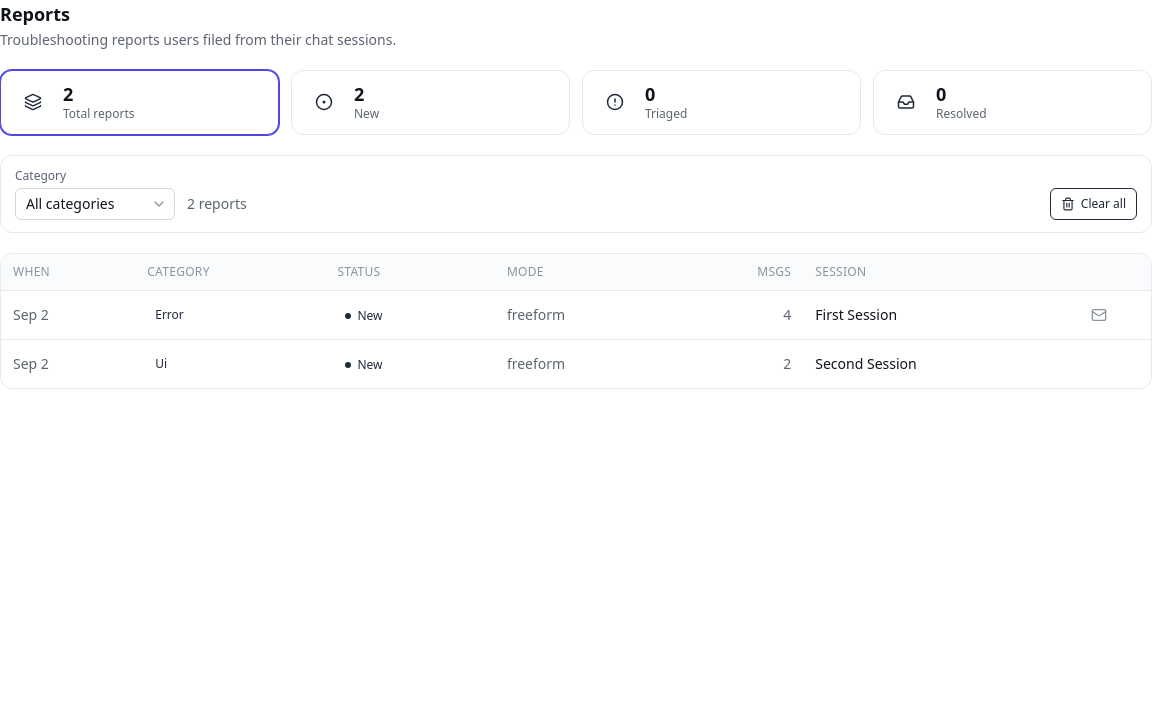
Test case: clears all reports after confirmation
The width and height of the screenshot is (1152, 720).
Expected: the text "First Session" is shown, left=803, top=290, right=1079, bottom=339
Click the button "Clear all": {"x": 1093, "y": 204} left=1050, top=188, right=1137, bottom=220
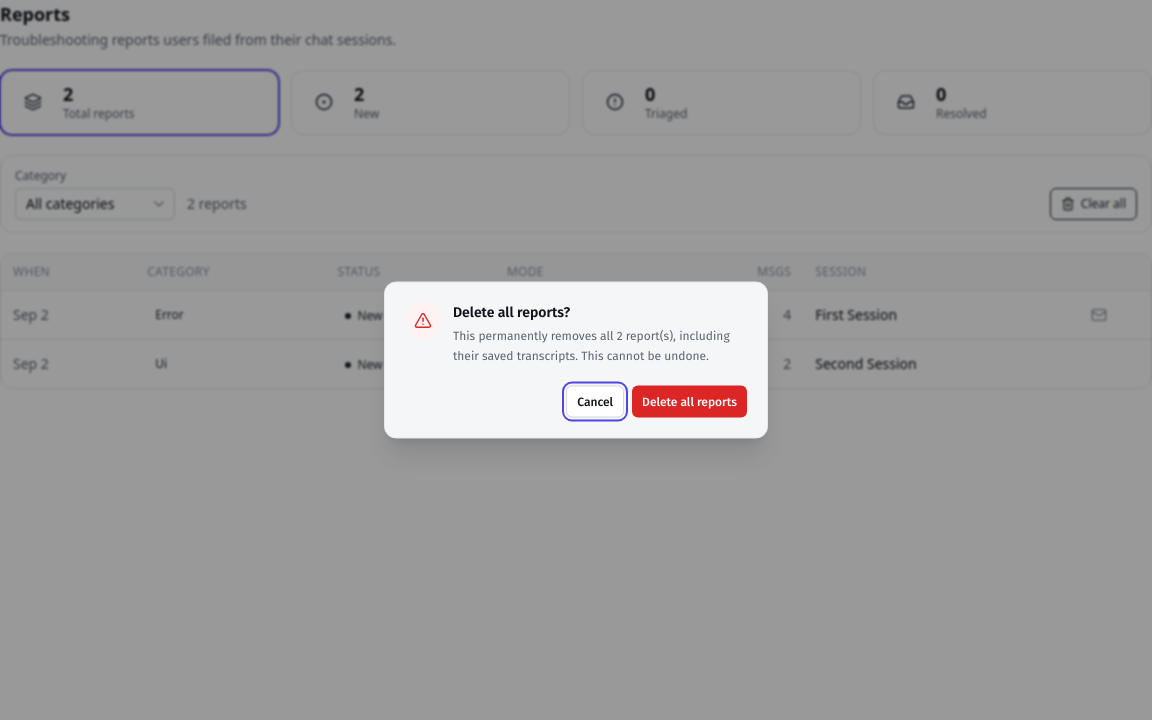
Click the button "Delete all reports": {"x": 690, "y": 402} left=632, top=386, right=747, bottom=418
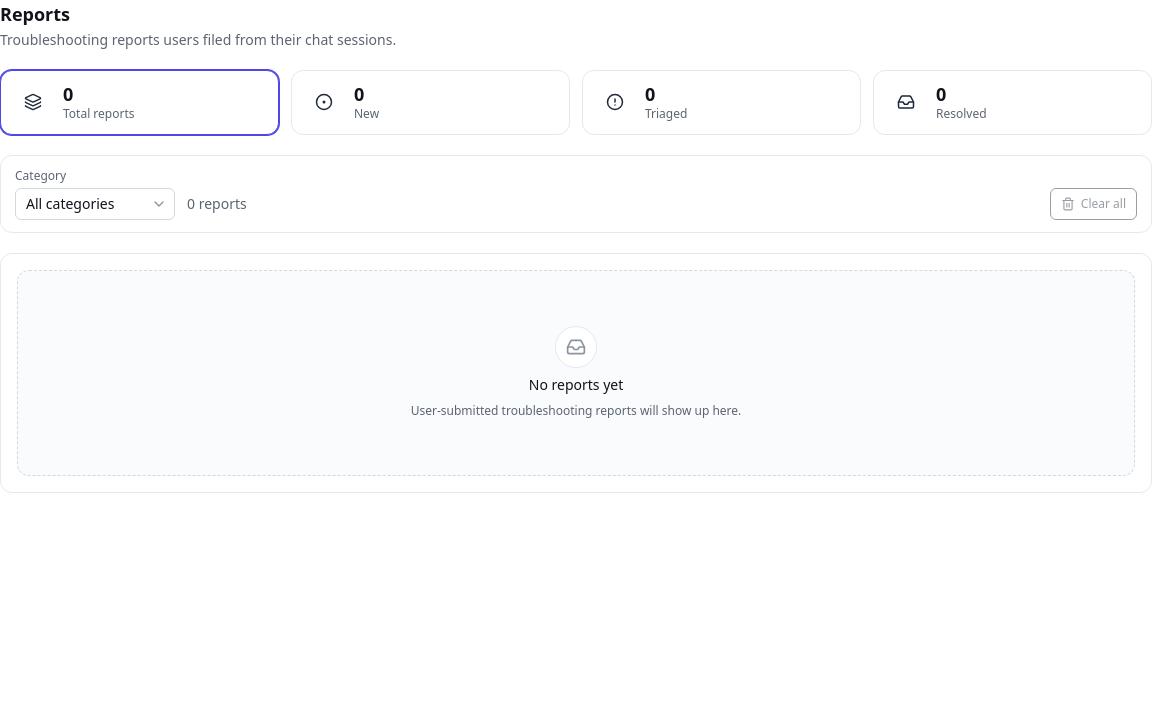
Expected: the text "First Session" is gone
Expected: the text "0 reports" is shown, left=187, top=194, right=247, bottom=220
